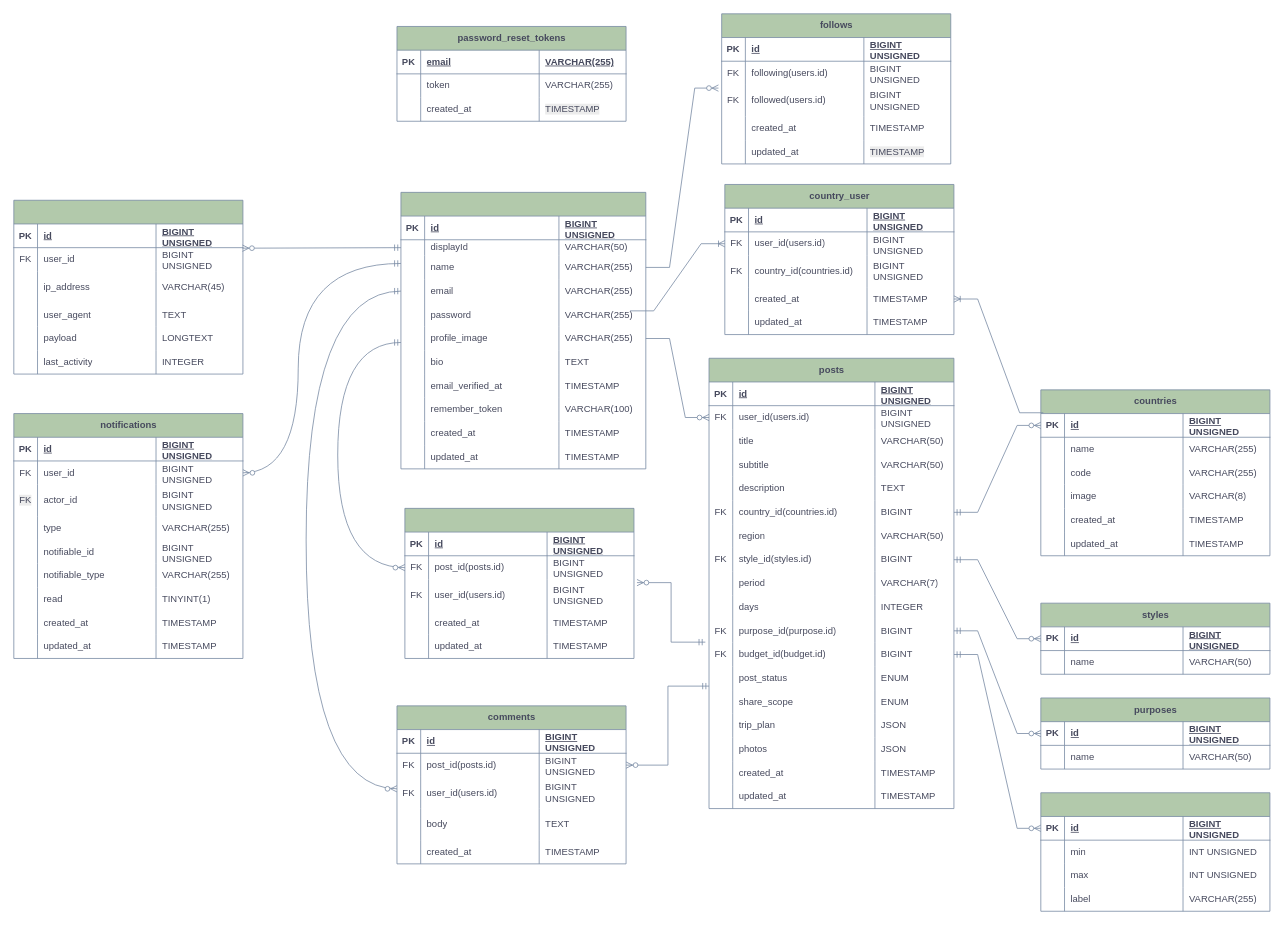
The diagram is 1284 pixels wide and 925 high, and some of its shapes have lost their labels. Here are the shapes that lost their labels. From the top down, the box of each, then its label:
(13, 199, 243, 374): sessions
(400, 192, 646, 469): Users
(404, 508, 634, 658): likes
(1040, 792, 1270, 911): budgets
